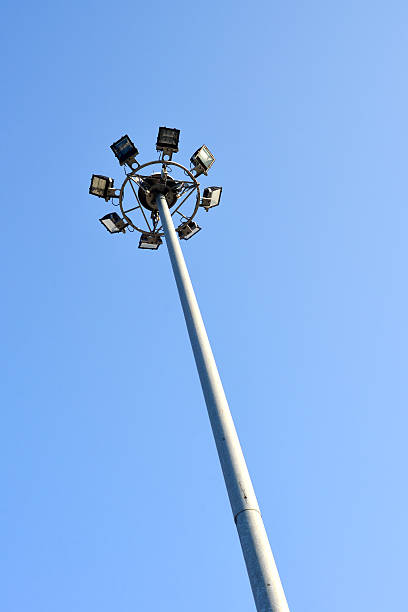light_pole: (158, 195, 292, 612)
